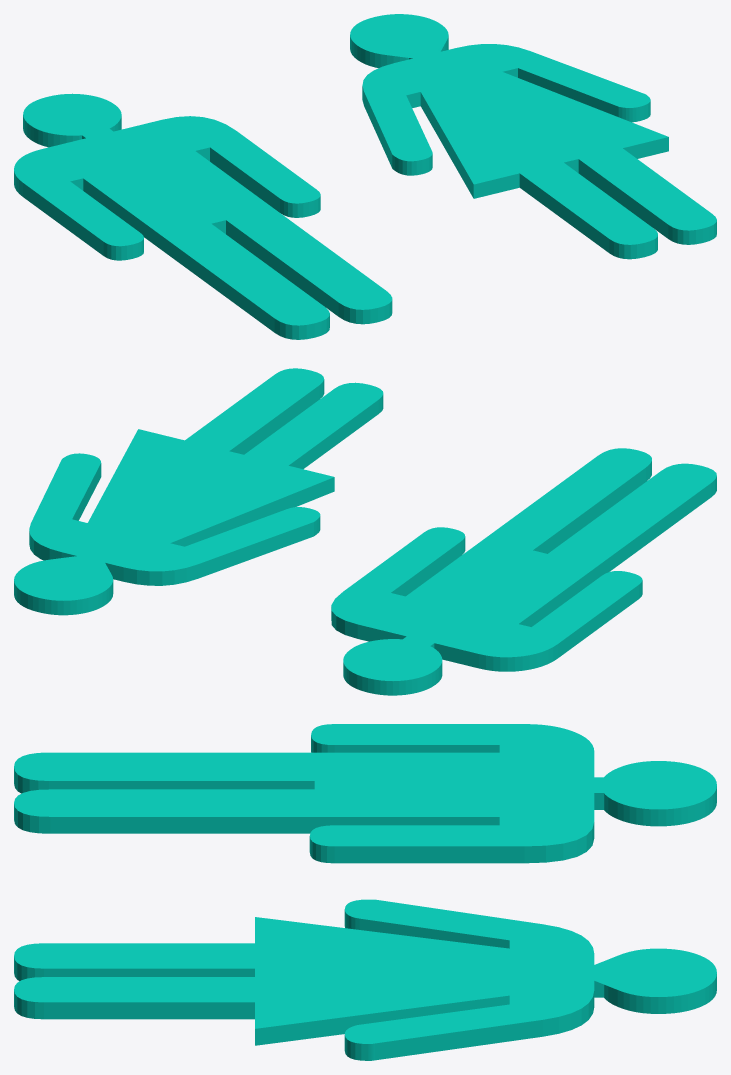
File: wc_tiny_blue.glb
3 views of the same model, one above another, from view 1: azimuth 30°, elevation 25°; view 2: azimuth 150°, elevation 25°; view 3: azimuth 270°, elevation 25° (orthographic). The views are drawn at different scales.
Visible parts, largest first — view 1: wc sign.001; view 2: wc sign.001; view 3: wc sign.001.
Boxes of the visible parts, x1,y1,x2,y2 form: wc sign.001: [14, 14, 716, 339]; wc sign.001: [14, 368, 716, 695]; wc sign.001: [14, 724, 716, 1060].
Bounding box in the file's own units: 0.0878 × 0.00216 × 0.0815.
